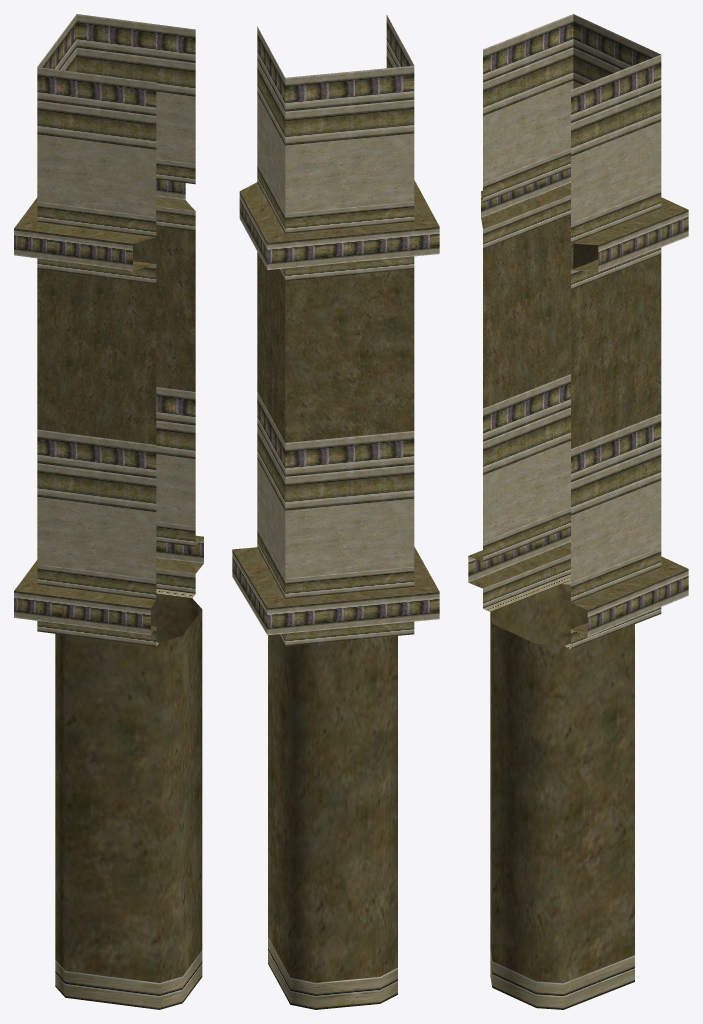
File: CH09_SMAUG_PLAYSURFACE_LAIR68.fbx
3 renders of one model, left to right at view 1: azimuth 30°, elevation 25°; view 2: azimuth 150°, elevation 25°; view 3: azimuth 270°, elevation 25°, orthographic.
Visible parts, largest first — view 1: CH09_SMAUG_PLAYSURFACE_LAIR68; view 2: CH09_SMAUG_PLAYSURFACE_LAIR68; view 3: CH09_SMAUG_PLAYSURFACE_LAIR68.
Part boxes in pixels (x1=…): CH09_SMAUG_PLAYSURFACE_LAIR68: x1=14, y1=14, x2=203, y2=1009; CH09_SMAUG_PLAYSURFACE_LAIR68: x1=232, y1=15, x2=439, y2=1009; CH09_SMAUG_PLAYSURFACE_LAIR68: x1=468, y1=14, x2=688, y2=1009.
Bounding box in the file's own units: 42875 × 192842 × 41752.
5 materials, 5 textured.
